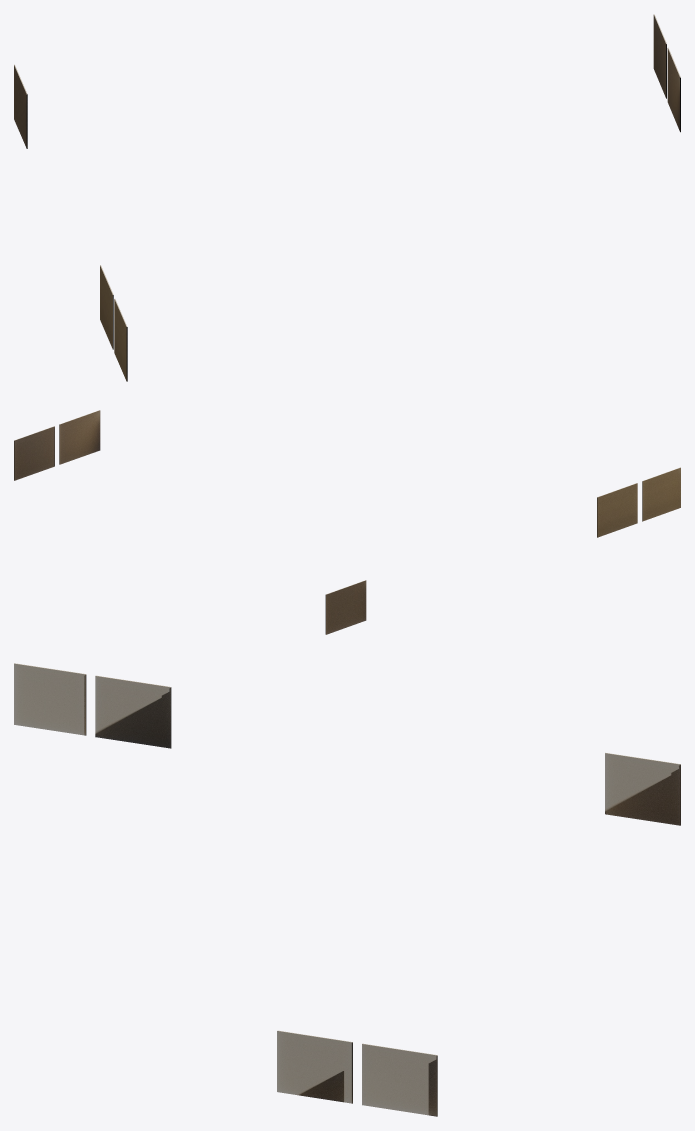
File: Building05_LV03_Glass.fbx
The picture shows the model from 3 angles, top to bottom: view 1: azimuth 30°, elevation 25°; view 2: azimuth 150°, elevation 25°; view 3: azimuth 270°, elevation 25°; orthographic projection. The views are drawn at different scales.
Parts seen in each view (by area): view 1: Building05_LV03_Glass; view 2: Building05_LV03_Glass; view 3: Building05_LV03_Glass.
Part boxes in pixels (x1,y1,x2,y2): Building05_LV03_Glass: (14,14,680,381); Building05_LV03_Glass: (14,410,680,634); Building05_LV03_Glass: (14,663,680,1116).
Bounding box in the file's own units: 19.03 × 1.38 × 13.67.
1 material, 1 textured.
